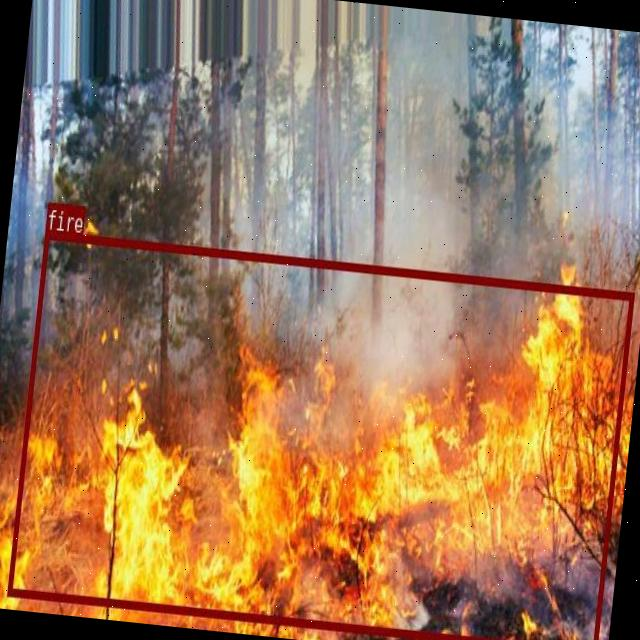fire: (5, 229, 633, 640)
